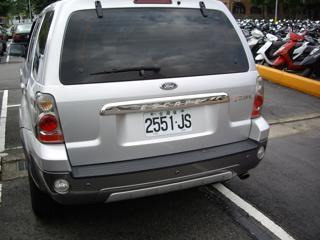plate: (142, 110, 194, 138)
